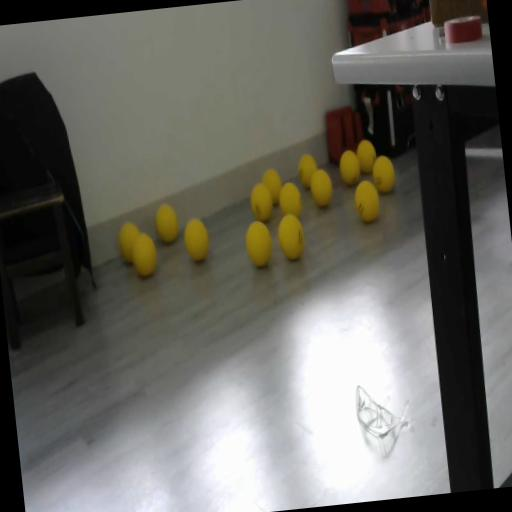FUEL: (242, 217, 275, 270), (275, 210, 306, 262), (181, 216, 212, 264), (352, 178, 382, 223), (116, 220, 144, 264), (276, 180, 304, 221), (370, 153, 398, 194), (154, 202, 180, 244), (308, 168, 334, 208), (337, 147, 362, 187), (260, 166, 284, 206), (354, 137, 378, 175)
